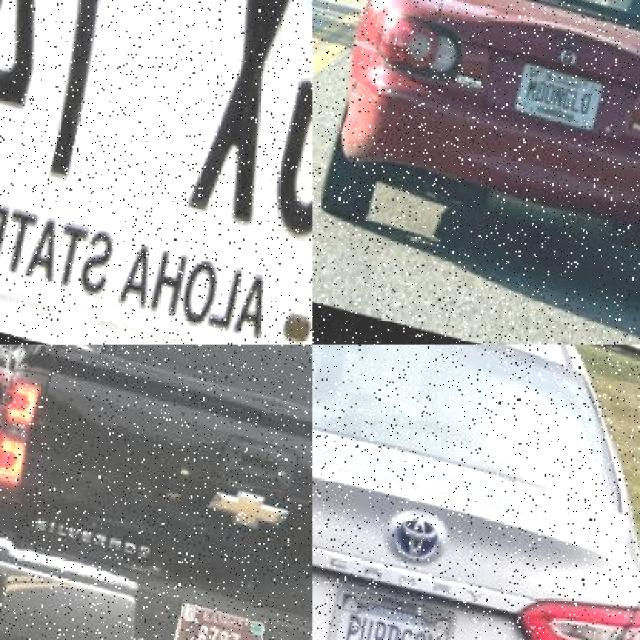licenseplate: (0, 0, 312, 301), (326, 583, 459, 640), (512, 61, 603, 131), (173, 601, 265, 640)
